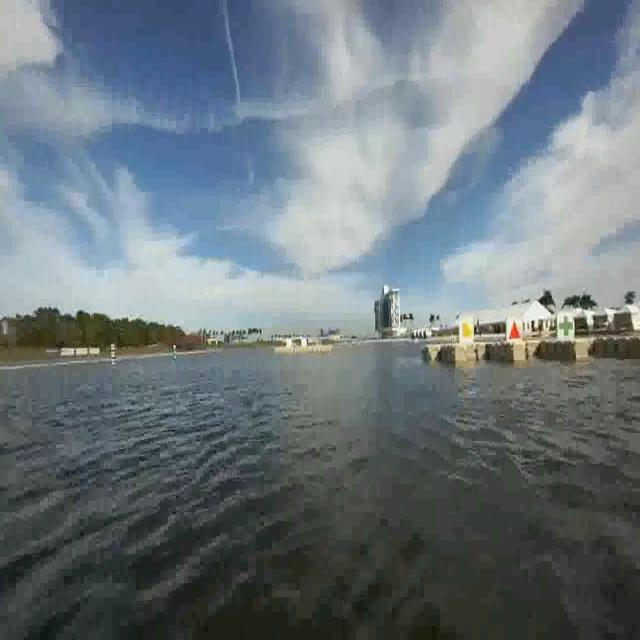blue-cross: (557, 314, 574, 340)
red-dot: (507, 314, 521, 341)
yellow-duck: (460, 316, 474, 348)
